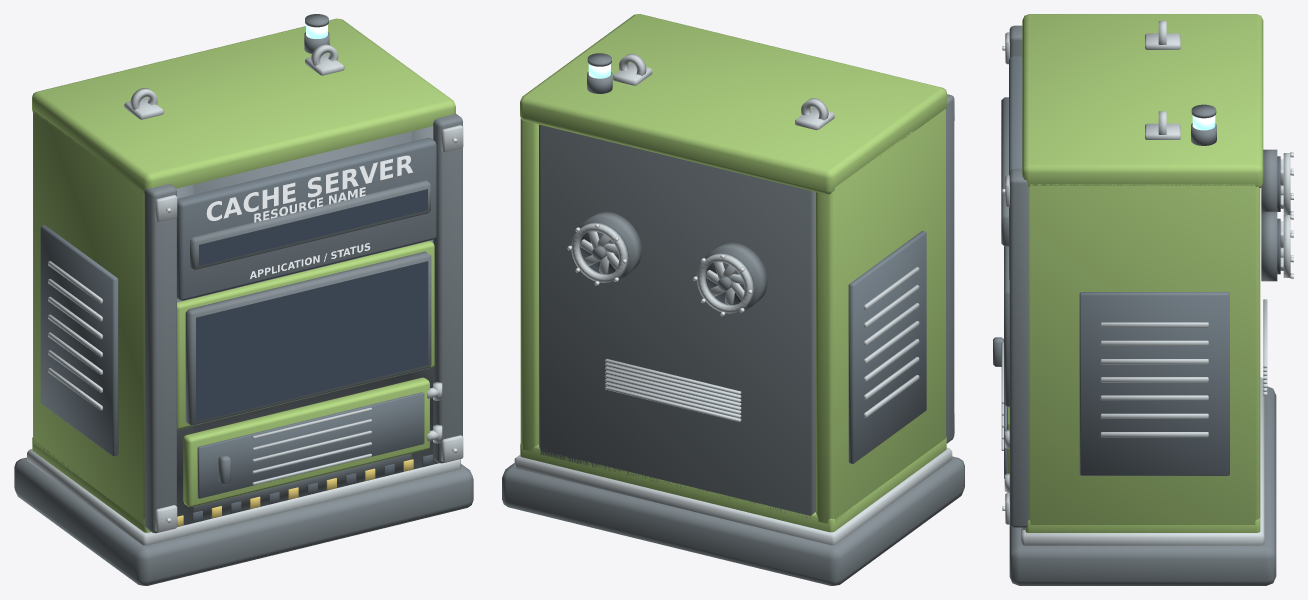
Rendered from cache_server_enhanced.glb.
3 renders of one model, left to right at view 1: azimuth 30°, elevation 25°; view 2: azimuth 150°, elevation 25°; view 3: azimuth 270°, elevation 25°, orthographic. The views are drawn at different scales.
Visible parts, largest first — view 1: Roof_lime, LiveViewSurface_glass, SideWall_lime, Skid_frame, CornerPost_frame, FrontHeader_graphite, SideServicePanel_graphite, DoorMoving_Inset_graphite, DoorMoving_Panel_lime, SkidDeck_steel, LiveViewSurfaceFrame_frame, ResourceNameSurface_glass (+15 smaller); view 2: BackWall_frame, Roof_lime, SideWall_lime, Skid_frame, SideServicePanel_graphite, SkidDeck_steel, KickPlate_lime, RearFan_steel, RearVent_steel, CornerPost_frame, RearFan_frame, SideLouver_steel (+3 smaller); view 3: SideWall_lime, Roof_lime, SideServicePanel_graphite, Skid_frame, CornerPost_frame, SideLouver_steel, SkidDeck_steel, RearFan_frame, KickPlate_lime, FrontHeader_graphite, RearFan_steel, ResourceNameSurfaceFrame_frame (+7 smaller).
Boxes of the visible parts, box(x1,y1,x2,y2) form: Roof_lime: box(32, 18, 455, 194); LiveViewSurface_glass: box(196, 261, 428, 421); SideWall_lime: box(33, 111, 144, 523); Skid_frame: box(14, 457, 473, 585); CornerPost_frame: box(144, 114, 462, 533); FrontHeader_graphite: box(177, 137, 436, 300); SideServicePanel_graphite: box(40, 225, 118, 456); DoorMoving_Inset_graphite: box(197, 392, 424, 498); DoorMoving_Panel_lime: box(183, 377, 429, 506); SkidDeck_steel: box(27, 449, 460, 545); LiveViewSurfaceFrame_frame: box(185, 251, 431, 425); ResourceNameSurface_glass: box(199, 189, 427, 265); BackWall_frame: box(539, 124, 815, 518); Roof_lime: box(520, 14, 946, 194); SideWall_lime: box(520, 109, 945, 523); Skid_frame: box(502, 456, 964, 585); SideServicePanel_graphite: box(848, 230, 926, 463); SkidDeck_steel: box(514, 447, 952, 545); KickPlate_lime: box(520, 437, 946, 532); RearFan_steel: box(571, 223, 753, 313); RearVent_steel: box(605, 359, 741, 422); CornerPost_frame: box(946, 94, 954, 443); RearFan_frame: box(579, 211, 767, 311); SideLouver_steel: box(864, 267, 919, 417); SideWall_lime: box(1028, 184, 1260, 524); Roof_lime: box(1022, 14, 1263, 188); SideServicePanel_graphite: box(1079, 292, 1229, 475); Skid_frame: box(1009, 386, 1276, 585); CornerPost_frame: box(1009, 25, 1028, 527); SideLouver_steel: box(1100, 322, 1208, 437); SkidDeck_steel: box(1021, 377, 1264, 545); RearFan_frame: box(1261, 149, 1277, 281); KickPlate_lime: box(1025, 518, 1260, 532); FrontHeader_graphite: box(1009, 56, 1022, 279); RearFan_steel: box(1280, 153, 1290, 277); ResourceNameSurfaceFrame_frame: box(1001, 97, 1008, 246).
Size of the model in its own units: 2 by 2.48 by 1.51.
